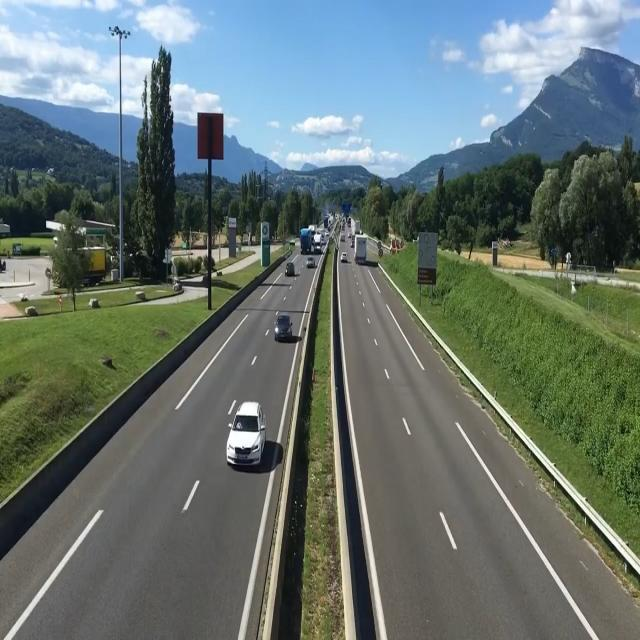car: (225, 398, 265, 474), (273, 312, 293, 346), (282, 256, 297, 280), (340, 252, 350, 268)
truck: (353, 231, 372, 268), (300, 228, 312, 256)
